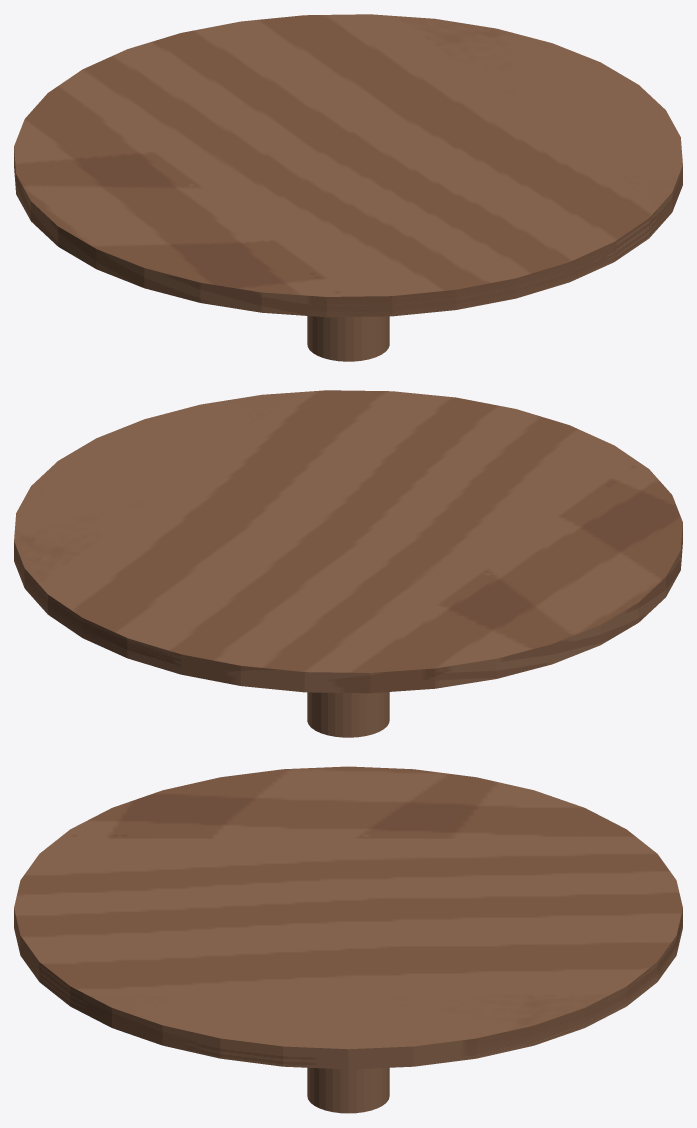
Rendered from round_table.fbx.
3 views of the same model, one above another, from view 1: azimuth 30°, elevation 25°; view 2: azimuth 150°, elevation 25°; view 3: azimuth 270°, elevation 25° (orthographic).
Visible parts, largest first — view 1: table and chairs.007; view 2: table and chairs.007; view 3: table and chairs.007.
Part boxes in pixels (box(x1,y1,x2,y2)): table and chairs.007: box(14, 14, 682, 361); table and chairs.007: box(14, 390, 682, 737); table and chairs.007: box(14, 766, 682, 1113).
Size of the model in its own units: 367 by 114 by 367.
